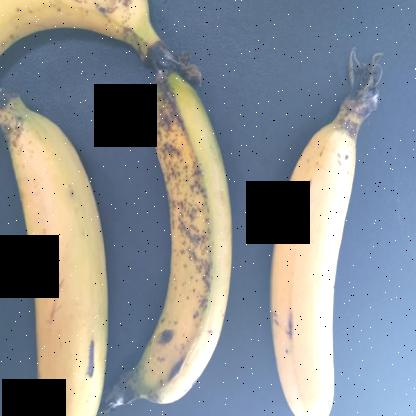freshripe: (254, 110, 392, 415), (0, 98, 104, 415)
ripe: (120, 75, 270, 401)
